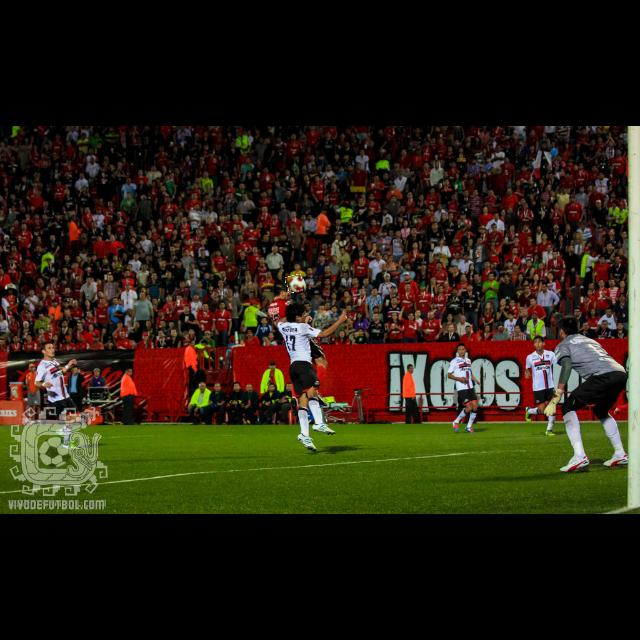Football: (286, 276, 304, 292)
